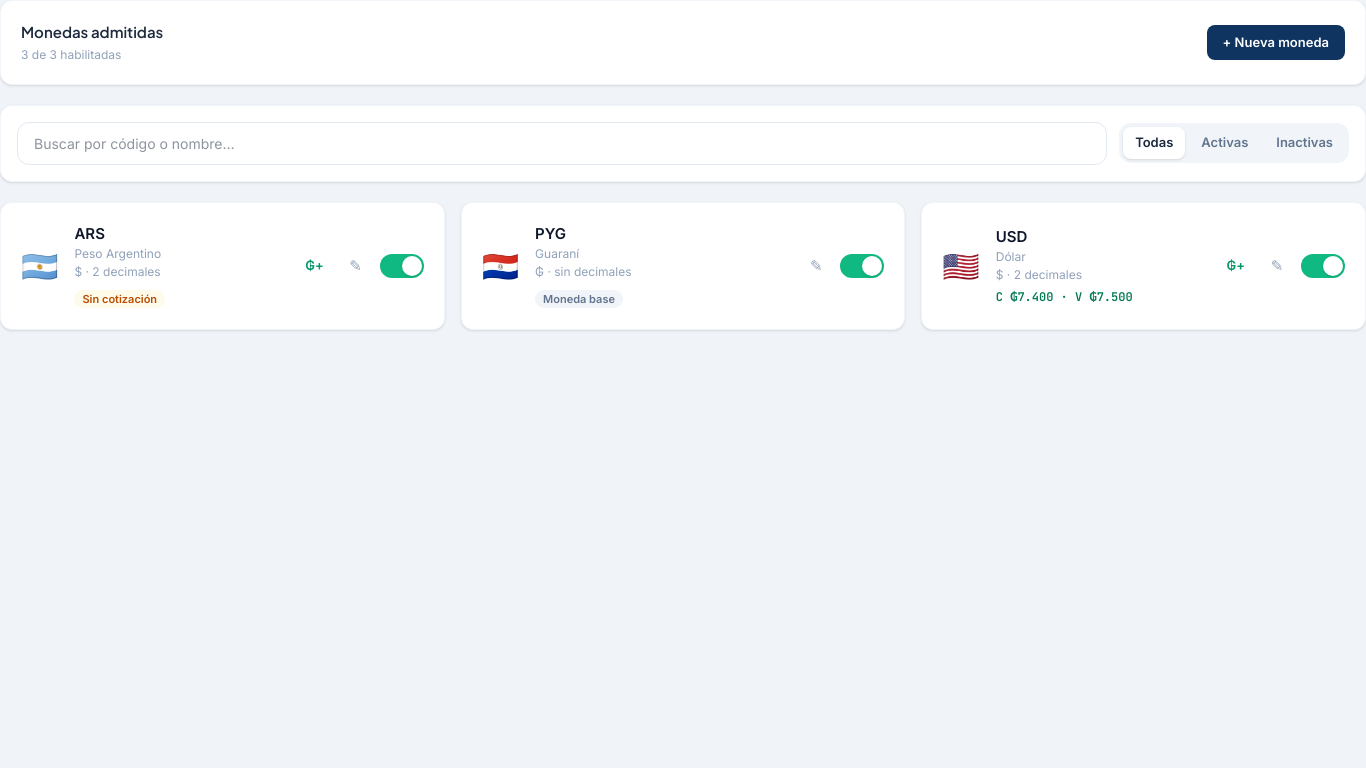
Test: Currencies PI-71 (vigente + alta de tasa por moneda) › registra la primera tasa de ARS desde su tarjeta
The width and height of the screenshot is (1366, 768).
Click the button named "Registrar tasa de ARS": (314, 266) [297, 250, 332, 282]
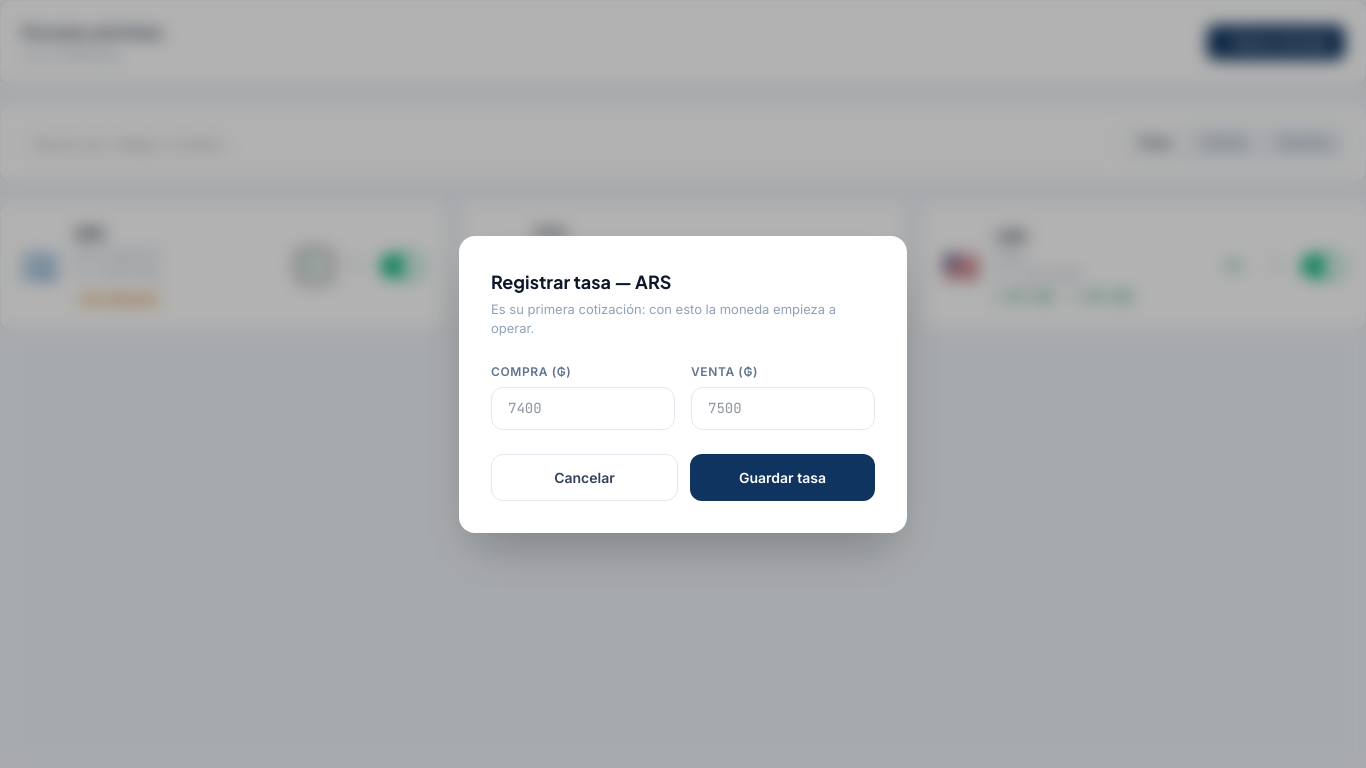
Expected: the heading "Registrar tasa — ARS" is shown, [491, 270, 672, 292]
In the number field labelled "Compra (₲)": (583, 408) [491, 386, 675, 430], type "520"
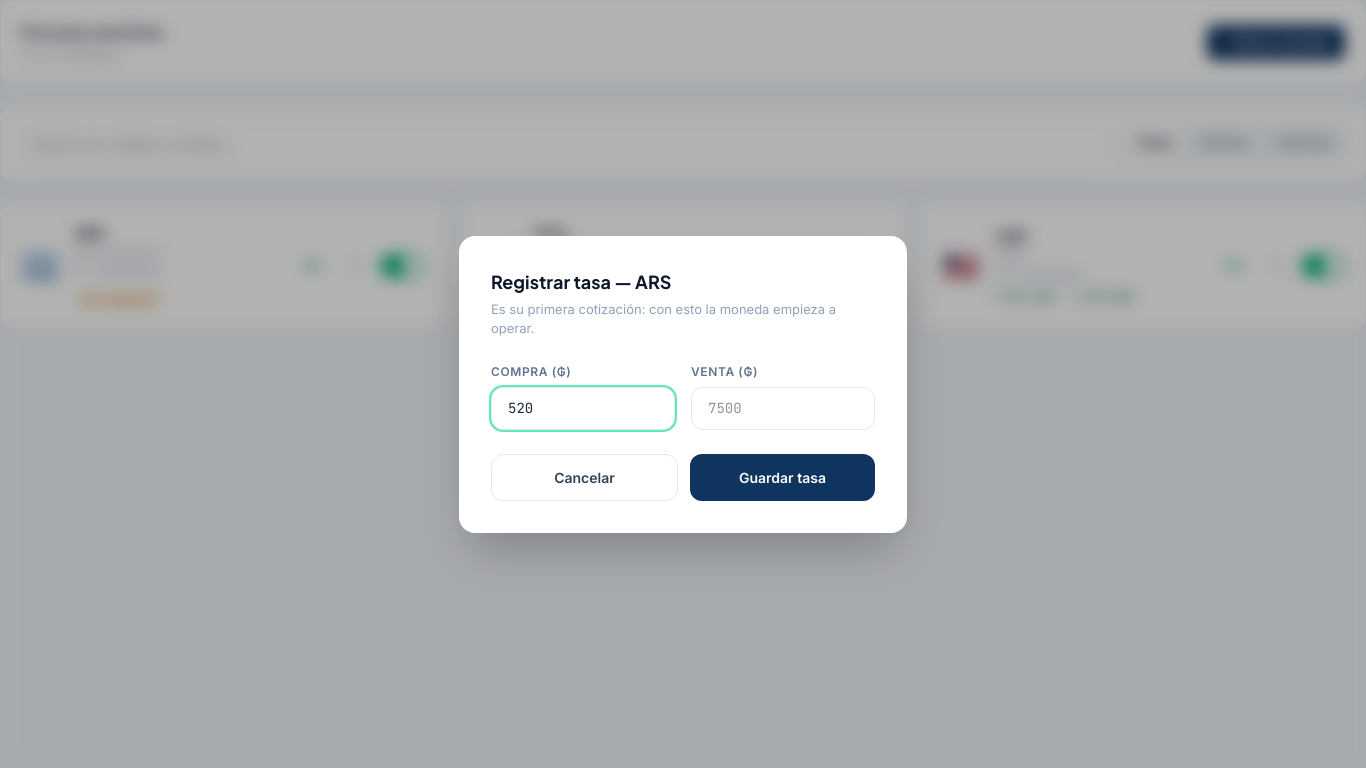
In the number field labelled "Venta (₲)": (783, 408) [691, 386, 875, 430], type "580"
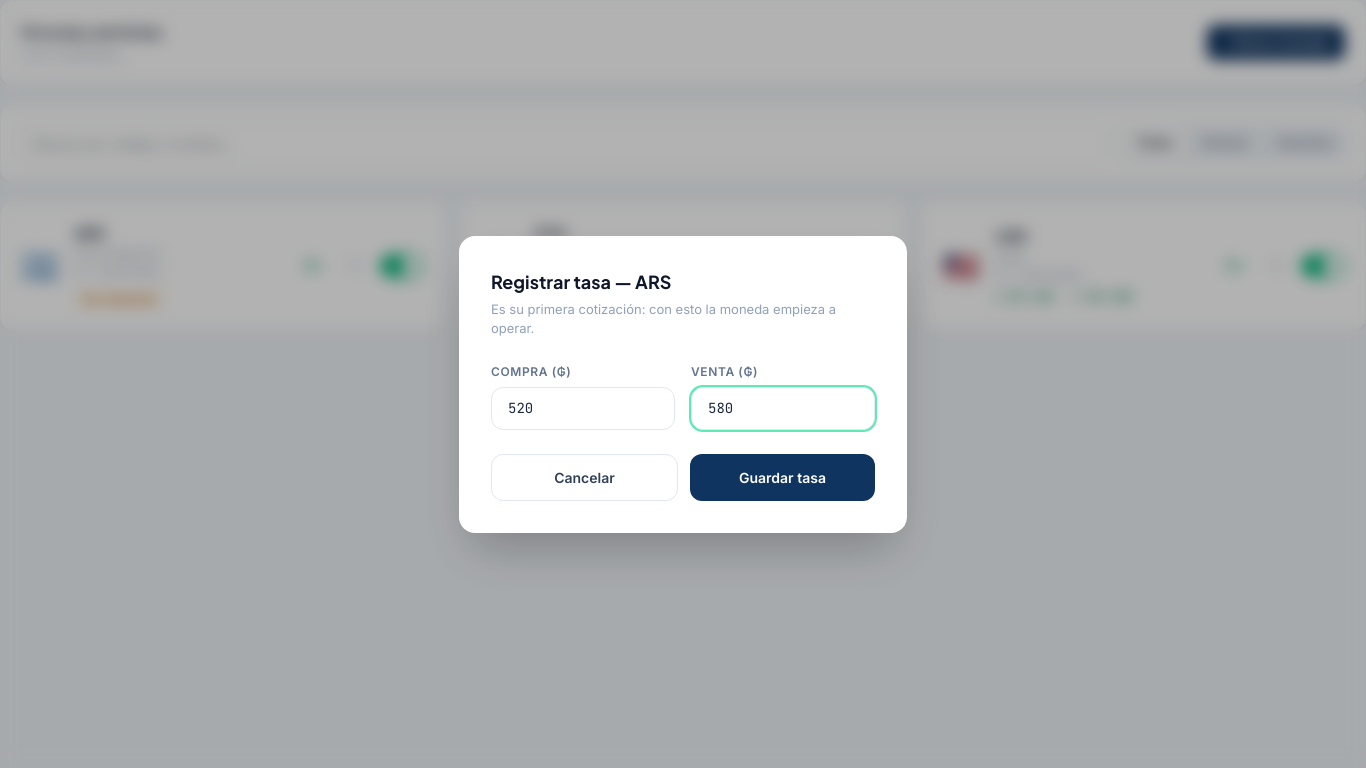
Click the button "Guardar tasa": (782, 477) [690, 454, 875, 500]
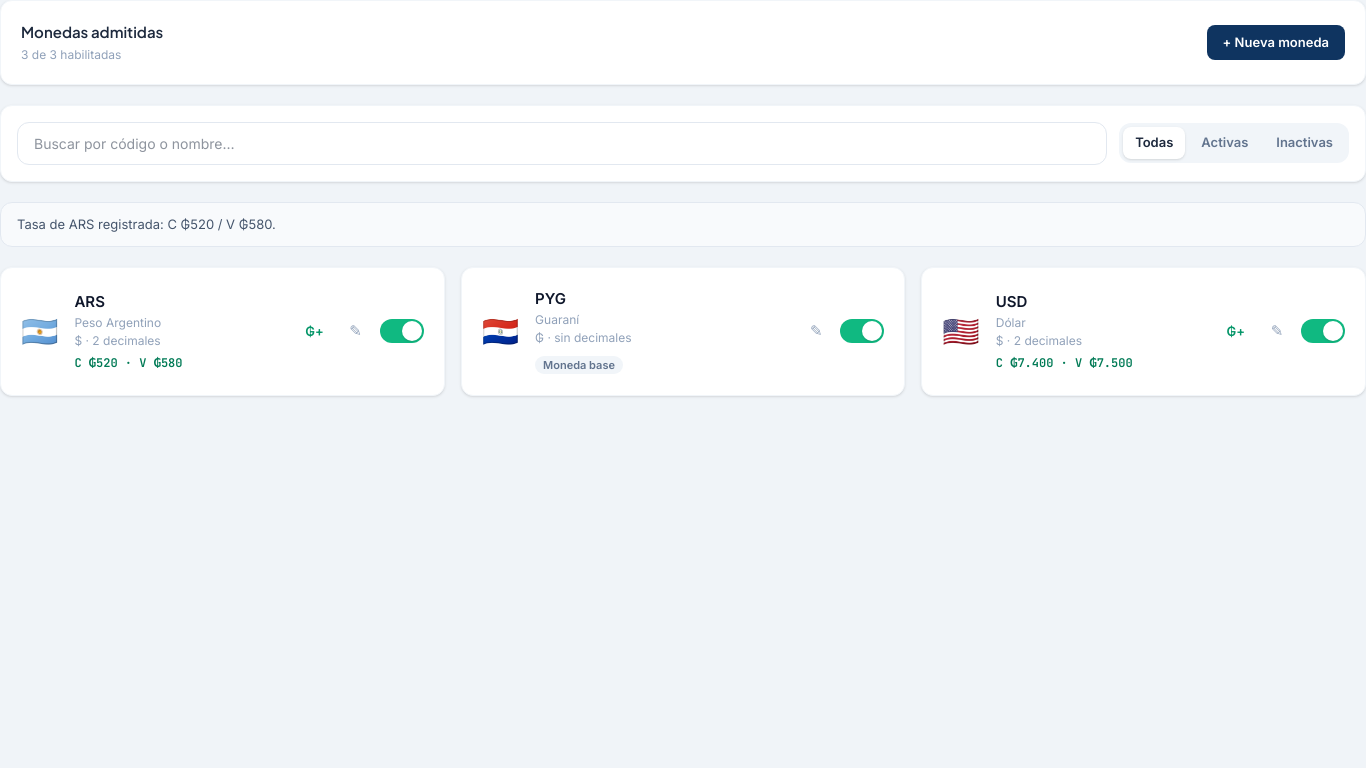
Expected: the text "Sin cotización" is gone
Expected: the text "C ₲520 · V ₲580" is shown, [74, 354, 182, 370]
